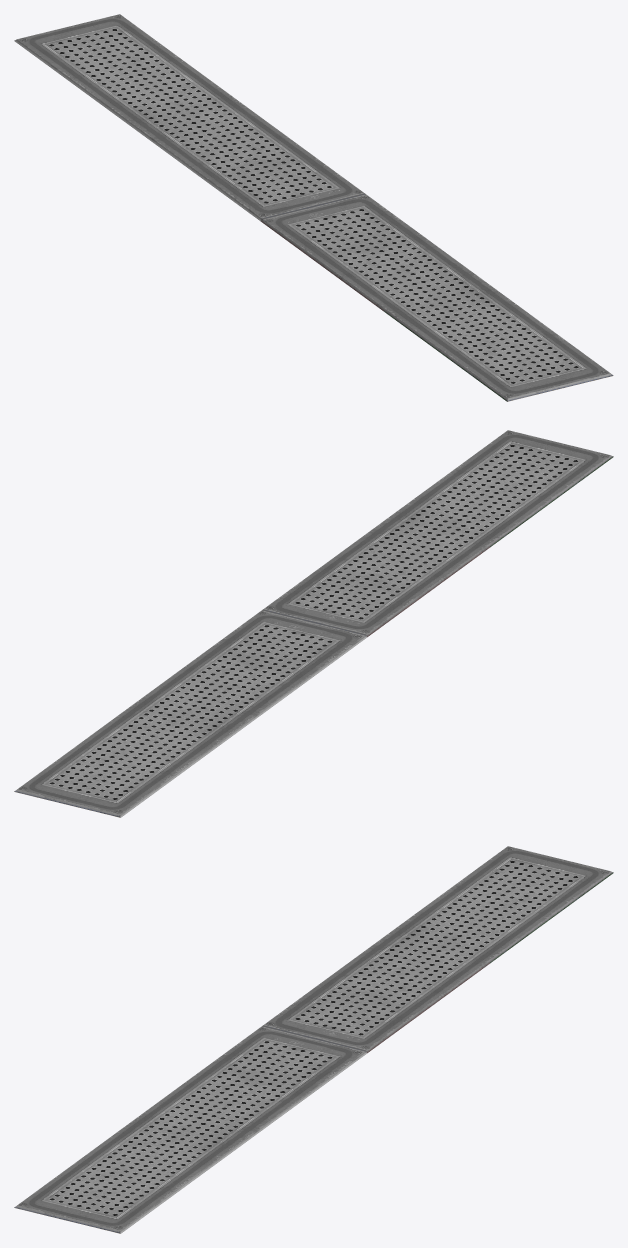
Rendered from CP_Floor_Grate_01.fbx.
3 renders of one model, top to bottom at view 1: azimuth 30°, elevation 25°; view 2: azimuth 150°, elevation 25°; view 3: azimuth 330°, elevation 25°, orthographic.
Visible parts, largest first — view 1: CP_Floor_Grate_01; view 2: CP_Floor_Grate_01; view 3: CP_Floor_Grate_01.
Part boxes in pixels (<box>): CP_Floor_Grate_01: <box>14,14,613,401</box>; CP_Floor_Grate_01: <box>14,430,613,817</box>; CP_Floor_Grate_01: <box>14,846,613,1233</box>.
Size of the model in its own units: 50 by 0.8962 by 400.
